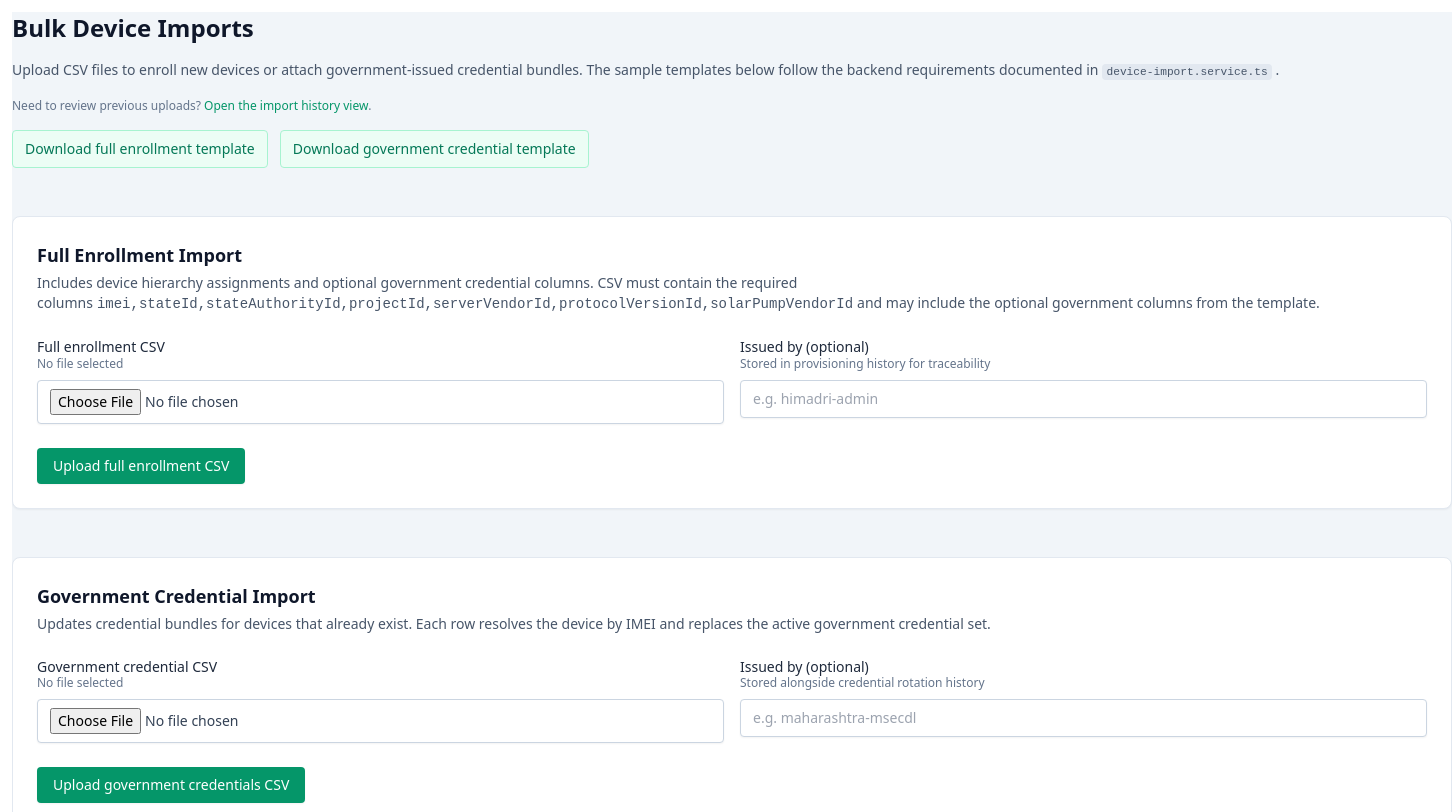
Test: DeviceImportPage › requires a file before submitting the full enrollment form
The width and height of the screenshot is (1452, 812).
Step 1. Click the button "Upload full enrollment CSV" → (141, 466), box [37, 448, 245, 484]
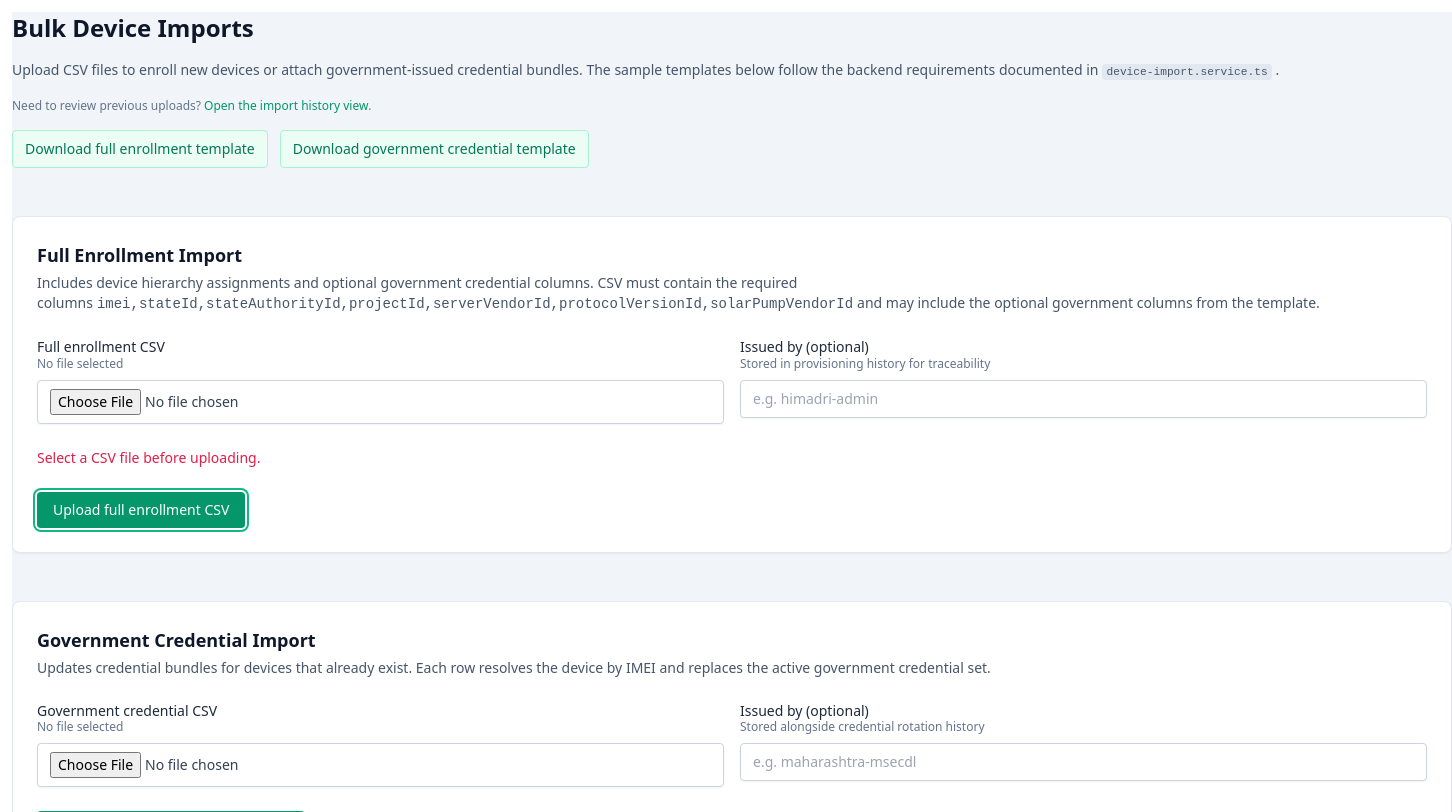
Expected: the message reads "Select a CSV file before uploading.", [37, 448, 260, 466]
